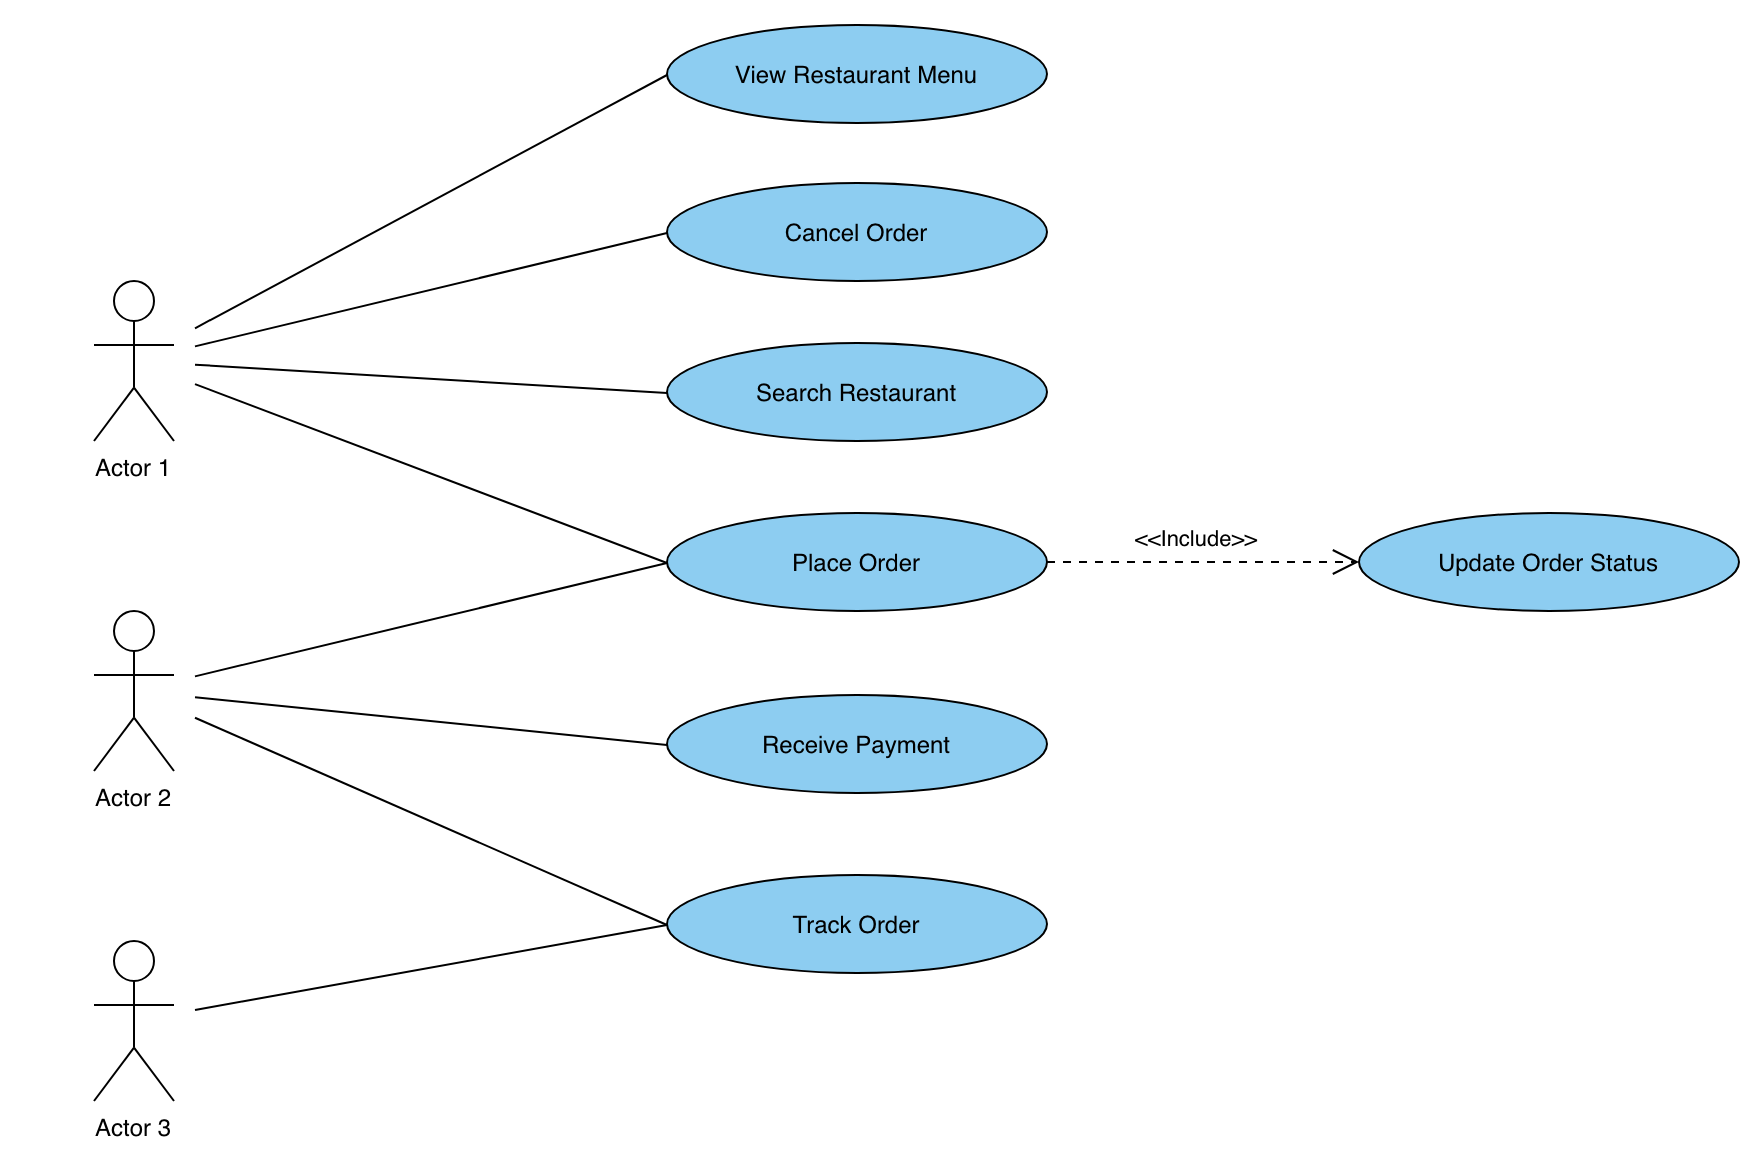actor: (85, 602, 182, 782), (83, 271, 177, 451), (84, 936, 179, 1103)
association: (195, 71, 664, 329), (195, 715, 663, 928), (189, 381, 663, 563), (194, 229, 665, 351), (192, 563, 659, 678), (197, 924, 657, 1016), (192, 687, 669, 764), (194, 359, 665, 407), (1046, 544, 1360, 581)
text: (729, 50, 989, 95), (748, 370, 972, 419), (1431, 542, 1663, 584), (751, 724, 980, 765), (771, 212, 945, 255), (792, 902, 933, 949), (1112, 517, 1264, 552), (787, 540, 923, 579), (87, 781, 189, 816), (82, 1115, 185, 1144), (92, 458, 177, 482)
use_case: (660, 339, 1049, 445), (665, 179, 1051, 285), (661, 22, 1051, 127), (659, 511, 1051, 612), (666, 873, 1051, 975), (1360, 511, 1740, 614), (664, 694, 1049, 794)
